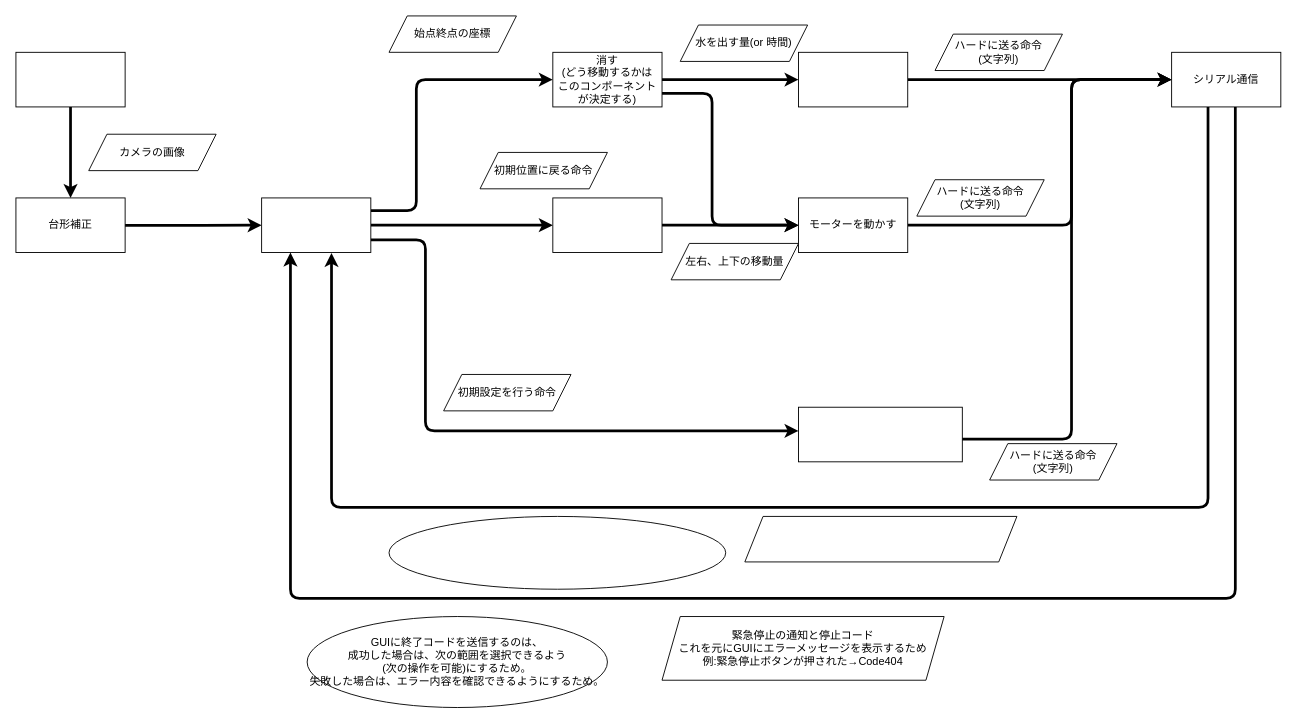
Some shapes in this 1297 by 723 pixel diagram are drawn without their labels. Here are the shapes that lost their labels. From the top down, the centre of each, then its label:
At (70,79): "カメラ".
At (853,79): "ポンプから水を出す".
At (316,225): "範囲選択等の操作 (GUI)".
At (607,225): "初期位置に戻る".
At (880,434): "初期設定 (左右、上下の大きさを リミットスイッチで測定する)".
At (557,552): "終了コードに動作の内容も含めることもできますが 一応分けてあります。 例 水を出すのに失敗した 「動作:水,コード:404」→「W404」".
At (880,539): "終了通知 ・終了した動作 ・終了コード(成功、失敗、エラー内容を示す)".
